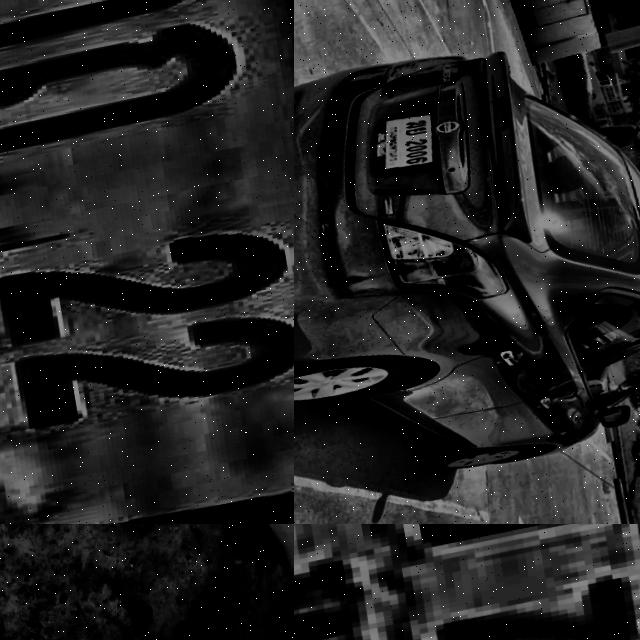license-plate: (0, 0, 294, 524), (294, 524, 640, 640), (354, 96, 453, 190)
